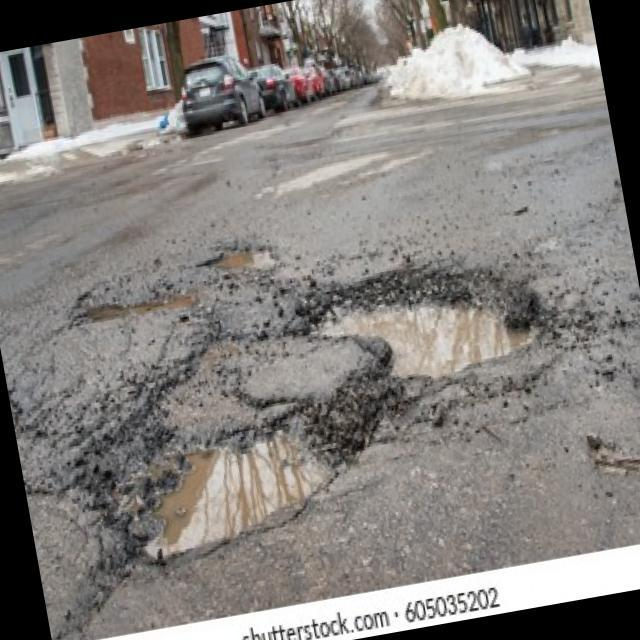Pothole: (83, 368, 363, 586), (293, 238, 556, 418), (74, 274, 206, 330), (195, 232, 282, 286), (4, 366, 28, 448)
